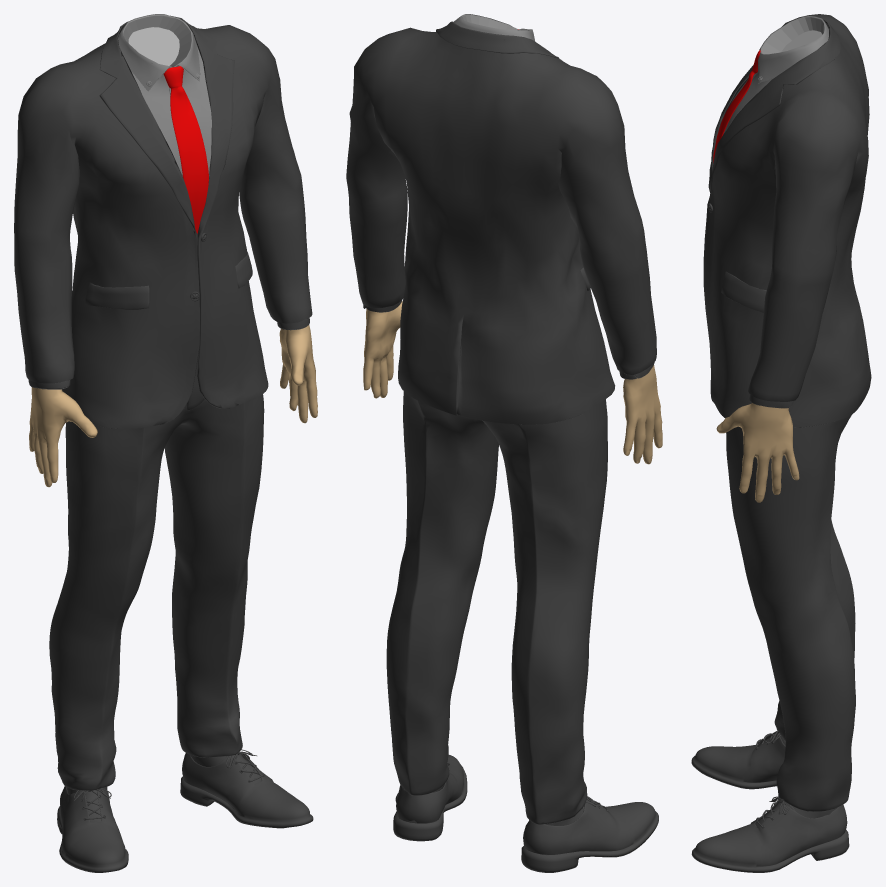
The model's file is suit guy idle rigged.fbx.
3 views of the same model, side by side, from view 1: azimuth 30°, elevation 25°; view 2: azimuth 150°, elevation 25°; view 3: azimuth 270°, elevation 25° (orthographic). The views are drawn at different scales.
Parts seen in each view (by area): view 1: Guy1; view 2: Guy1; view 3: Guy1.
Part boxes in pixels (left/top/right/bottom): Guy1: left=14, top=14, right=317, bottom=872; Guy1: left=346, top=14, right=662, bottom=872; Guy1: left=691, top=14, right=871, bottom=872.
Size of the model in its own units: 8.69 by 23.49 by 4.83.
